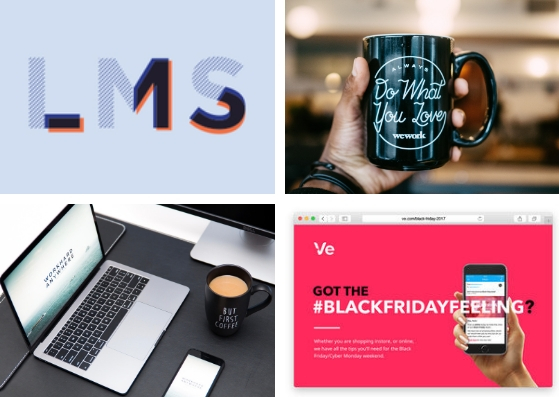wework: (391, 130, 427, 140)
